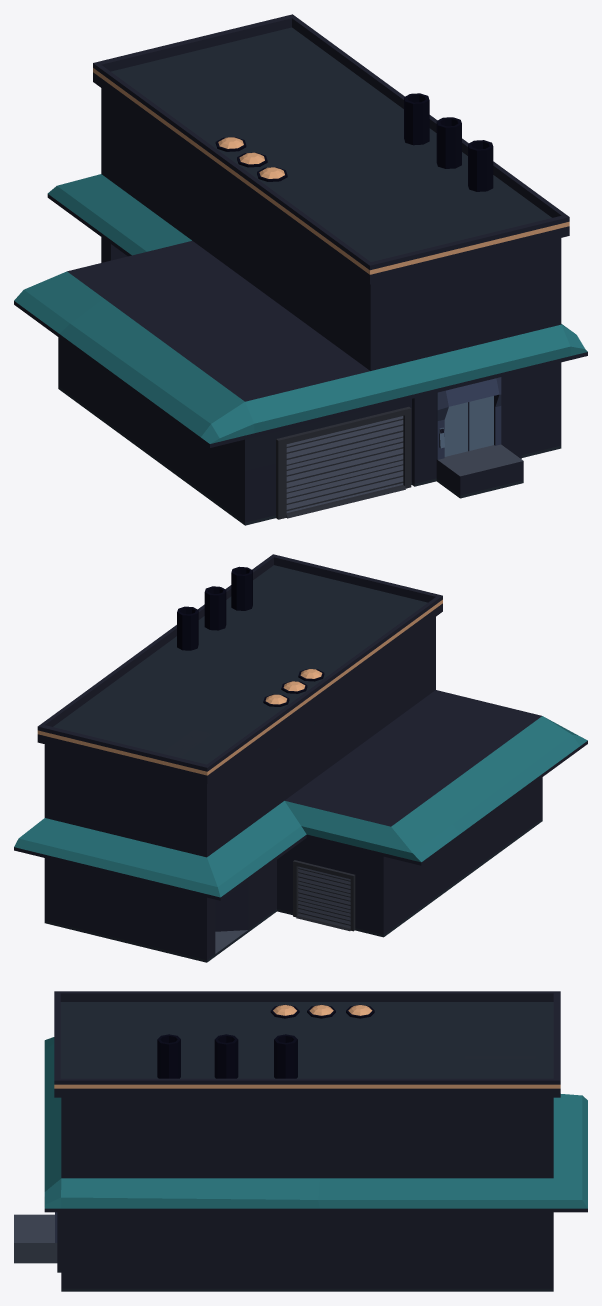
File: Building_Shipping.fbx
3 renders of one model, top to bottom at view 1: azimuth 30°, elevation 25°; view 2: azimuth 150°, elevation 25°; view 3: azimuth 270°, elevation 25°, orthographic. The views are drawn at different scales.
Visible parts, largest first — view 1: Cube.624, Cube.626, Cube.627; view 2: Cube.624; view 3: Cube.624.
Part boxes in pixels (x1,y1,x2,y2): Cube.624: [14, 14, 587, 525]; Cube.626: [468, 396, 493, 450]; Cube.627: [444, 402, 468, 456]; Cube.624: [14, 554, 587, 962]; Cube.624: [14, 991, 587, 1291].
Size of the model in its own units: 1831 by 1229 by 2635.
